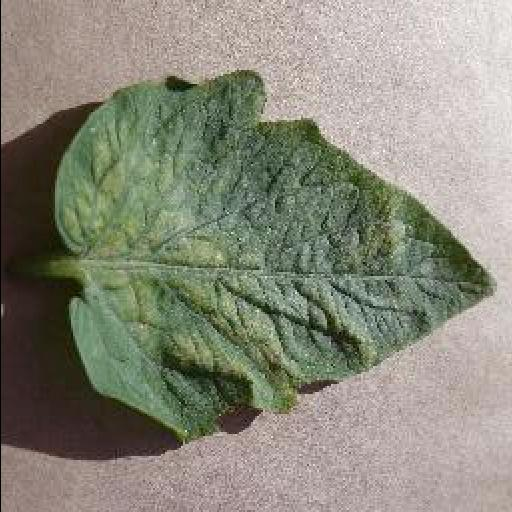disease_tomato: (48, 67, 498, 441)
